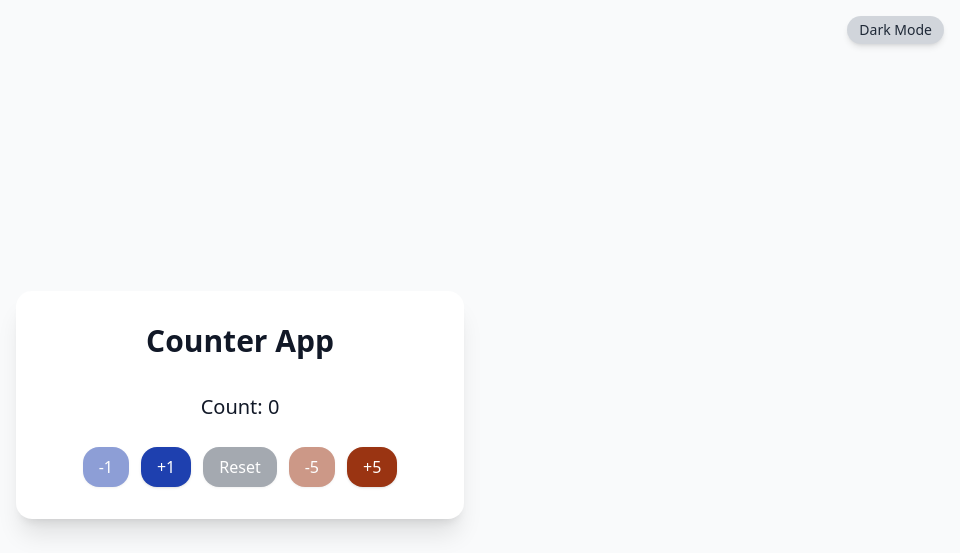
it: Counter App › decrements the count by 1 when -1 button is clicked
What coordinates should you click on to do the following:
click the button "+1"
I would click on:
 (166, 467)
Its box is [141, 447, 191, 487].
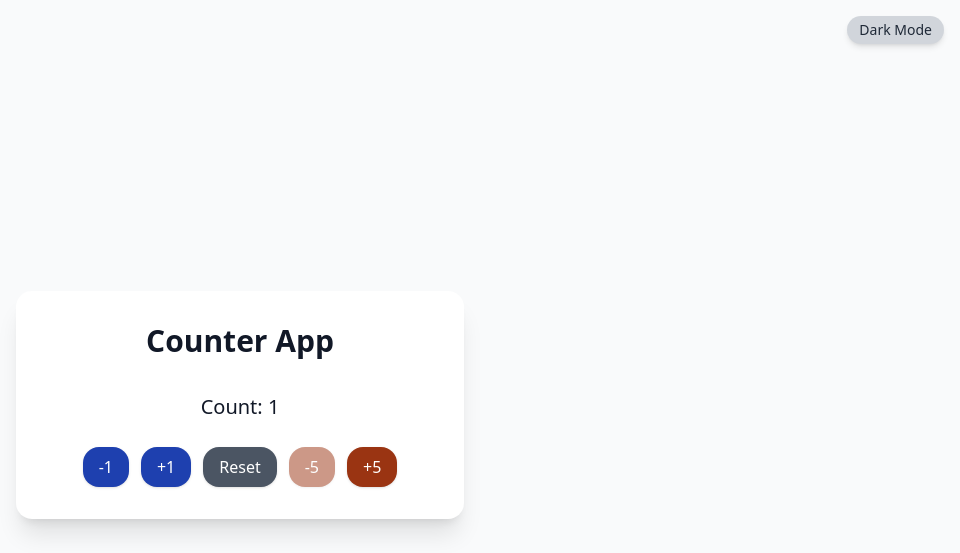
Expected: the text "Count: 1" is shown, [201, 393, 279, 421]
What coordinates should you click on to do the following:
click the button "-1"
I would click on:
 (106, 467)
Its box is [83, 447, 129, 487].
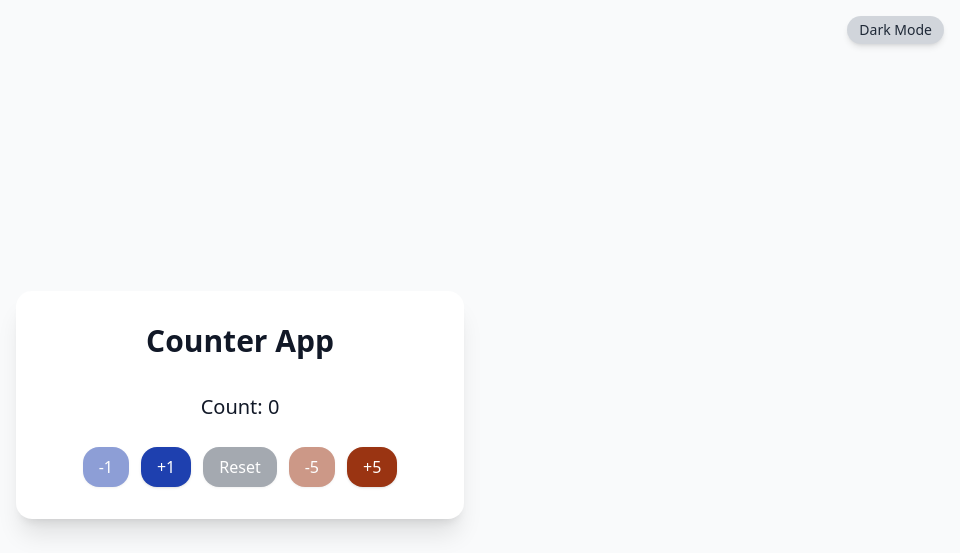
Expected: the text "Count: 0" is shown, [201, 393, 279, 421]
